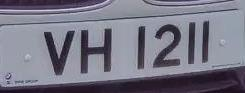1: (130, 19, 155, 79), (180, 16, 201, 70), (196, 14, 214, 68)
2: (149, 19, 187, 72)
H: (77, 23, 119, 81)
V: (40, 24, 82, 82)
